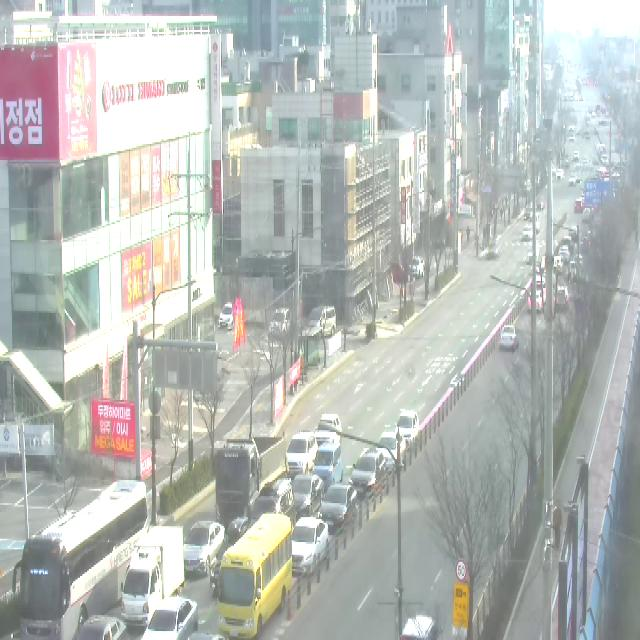Bus: (12, 480, 147, 640), (217, 514, 292, 639)
Car: (121, 526, 184, 626), (210, 517, 249, 590), (249, 478, 296, 530), (141, 597, 197, 640), (183, 521, 225, 577), (293, 517, 328, 573), (318, 483, 357, 532), (349, 450, 385, 499), (286, 432, 318, 475), (292, 475, 324, 517), (312, 445, 343, 485), (376, 432, 405, 472), (77, 617, 126, 640), (308, 306, 336, 340), (399, 616, 436, 640), (315, 415, 341, 448), (268, 307, 292, 338), (395, 411, 419, 441), (500, 326, 518, 351), (218, 302, 233, 330), (409, 256, 425, 278), (555, 286, 569, 311), (186, 632, 229, 640), (528, 291, 542, 314), (536, 276, 546, 303), (560, 236, 574, 254), (528, 214, 540, 234), (558, 246, 570, 263), (568, 225, 580, 241), (554, 256, 564, 274), (535, 196, 545, 212), (522, 225, 532, 241), (574, 200, 583, 214), (556, 169, 564, 180), (568, 176, 576, 186)
Truck: (217, 431, 286, 522)
